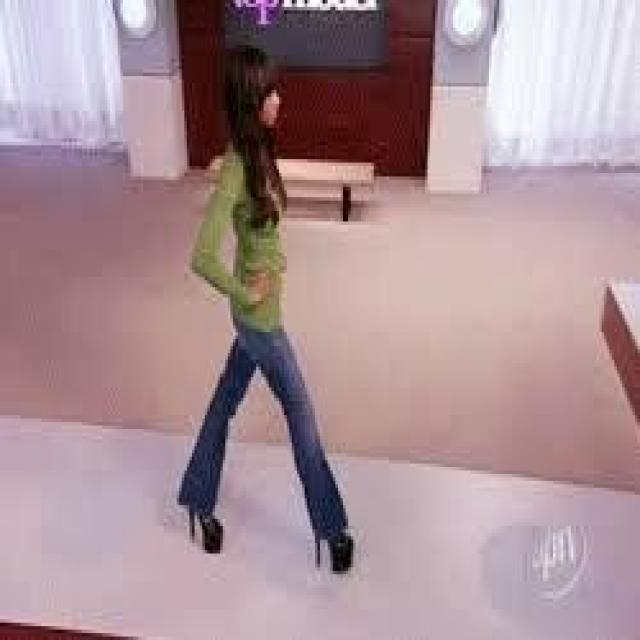person: (136, 31, 382, 571)
